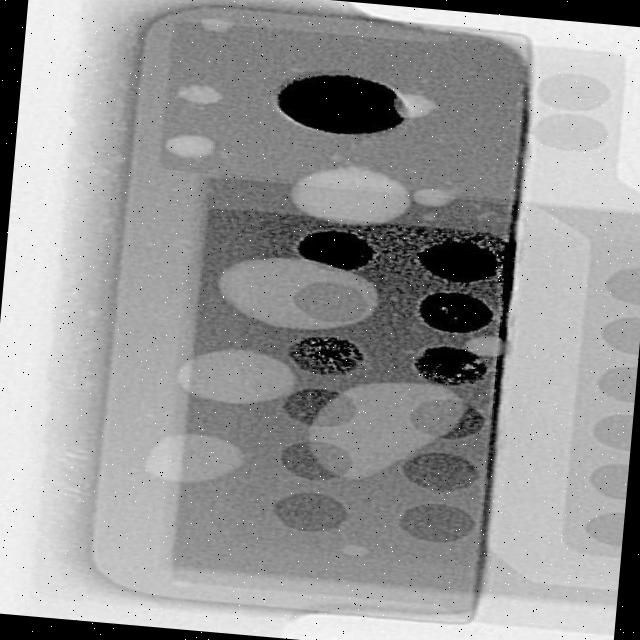chip: (65, 0, 542, 640)
void: (306, 381, 468, 481), (219, 258, 376, 328), (285, 167, 408, 222), (175, 348, 295, 403), (143, 436, 249, 481), (163, 133, 214, 157), (175, 81, 221, 105), (394, 93, 438, 118), (462, 336, 513, 357), (411, 188, 457, 208), (201, 18, 233, 35), (339, 543, 371, 557)
